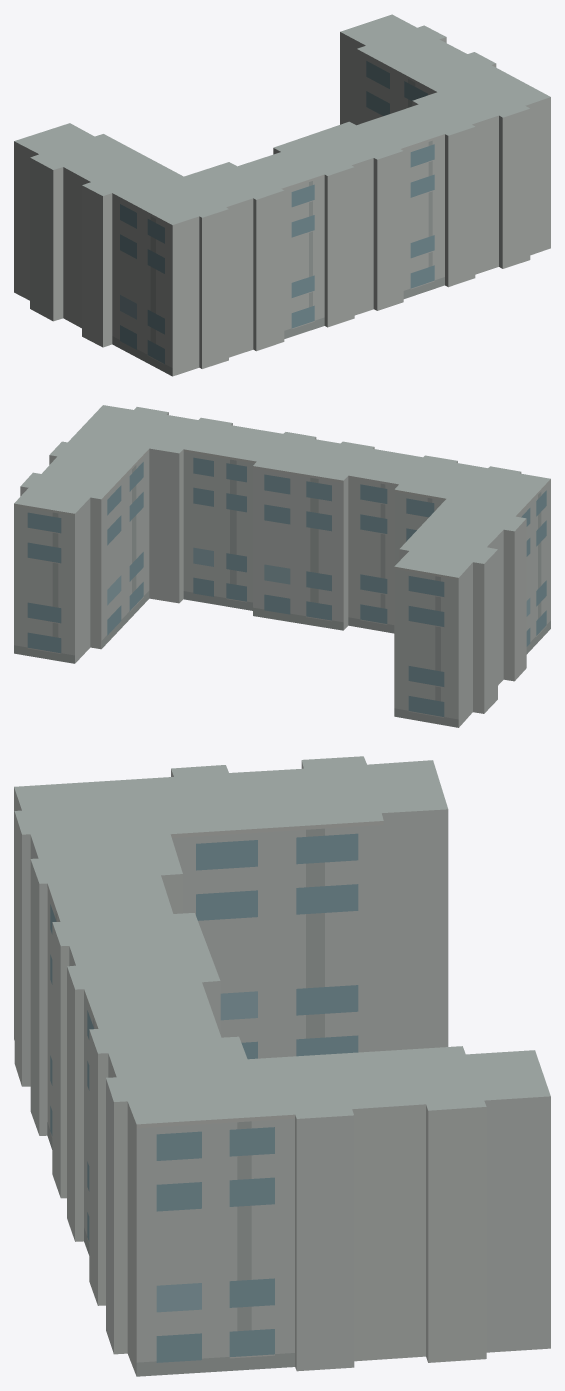
The model's file is survey-upis-32574046.glb.
3 views of the same model, one above another, from view 1: azimuth 30°, elevation 25°; view 2: azimuth 150°, elevation 25°; view 3: azimuth 270°, elevation 25° (orthographic). The views are drawn at different scales.
Visible parts, largest first — view 1: survey-upis-32574046.tmp; view 2: survey-upis-32574046.tmp; view 3: survey-upis-32574046.tmp.
Boxes of the visible parts, x1=… form: survey-upis-32574046.tmp: x1=14, y1=14, x2=550, y2=376; survey-upis-32574046.tmp: x1=14, y1=405, x2=550, y2=727; survey-upis-32574046.tmp: x1=14, y1=756, x2=550, y2=1376.
Bounding box in the file's own units: 47.74 × 15.25 × 29.42.
